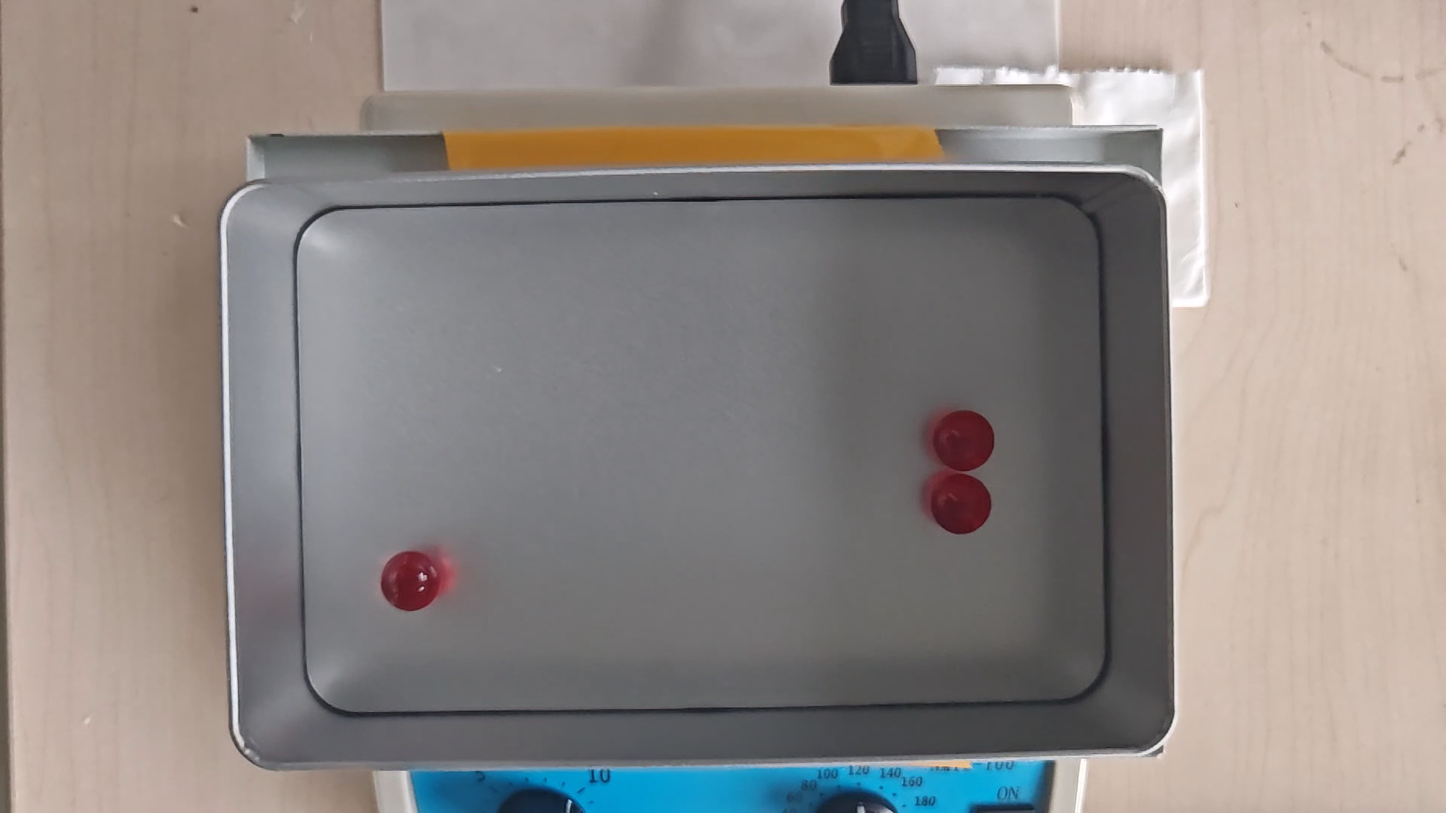ball: (929, 472, 993, 536), (935, 411, 995, 472), (382, 551, 438, 612)
container: (292, 204, 1106, 707)
